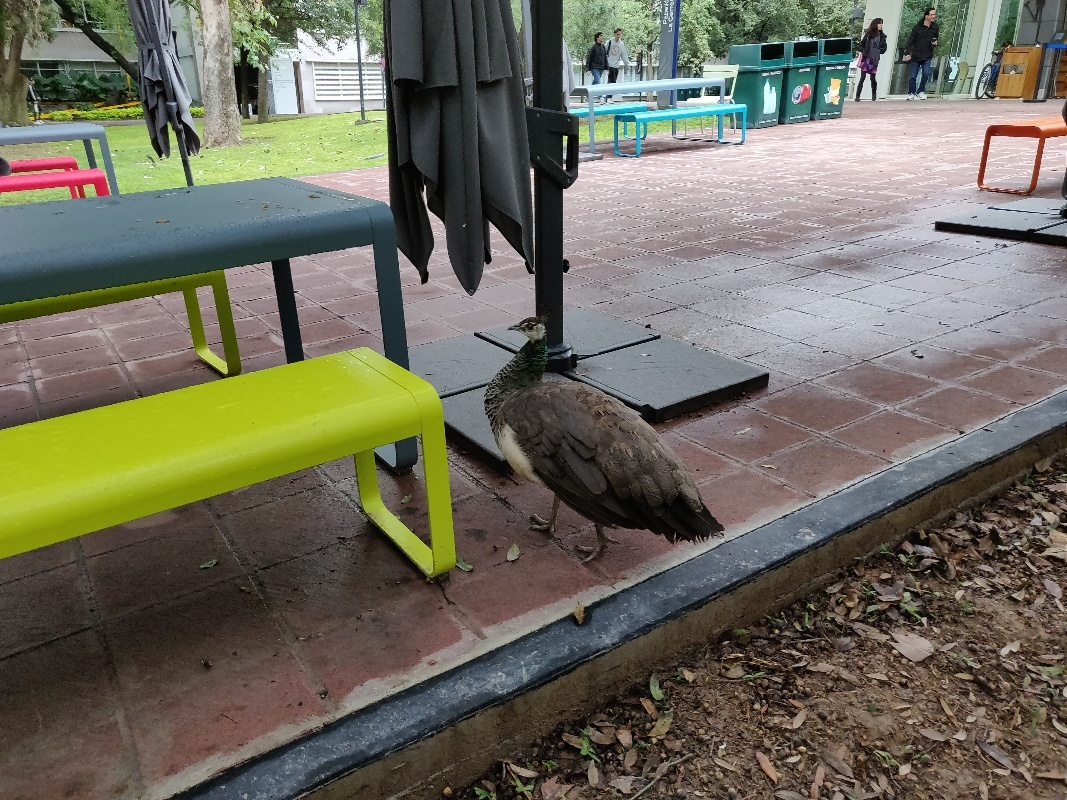pavoreal: (484, 320, 711, 575)
